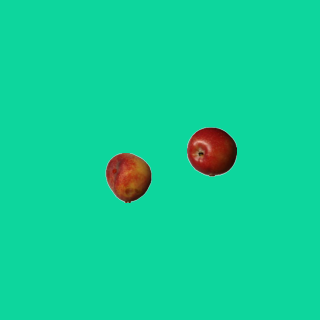Apple Braeburn: (186, 126, 236, 176)
Peach: (103, 152, 153, 202)
